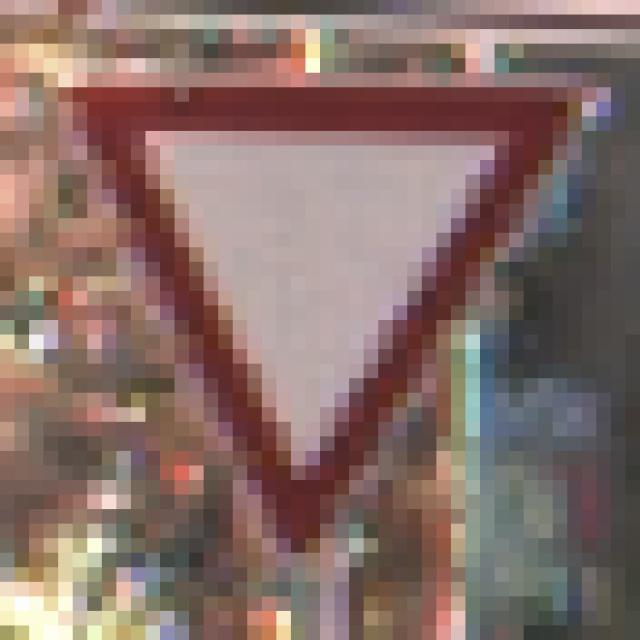Give Way: (74, 74, 568, 568)
